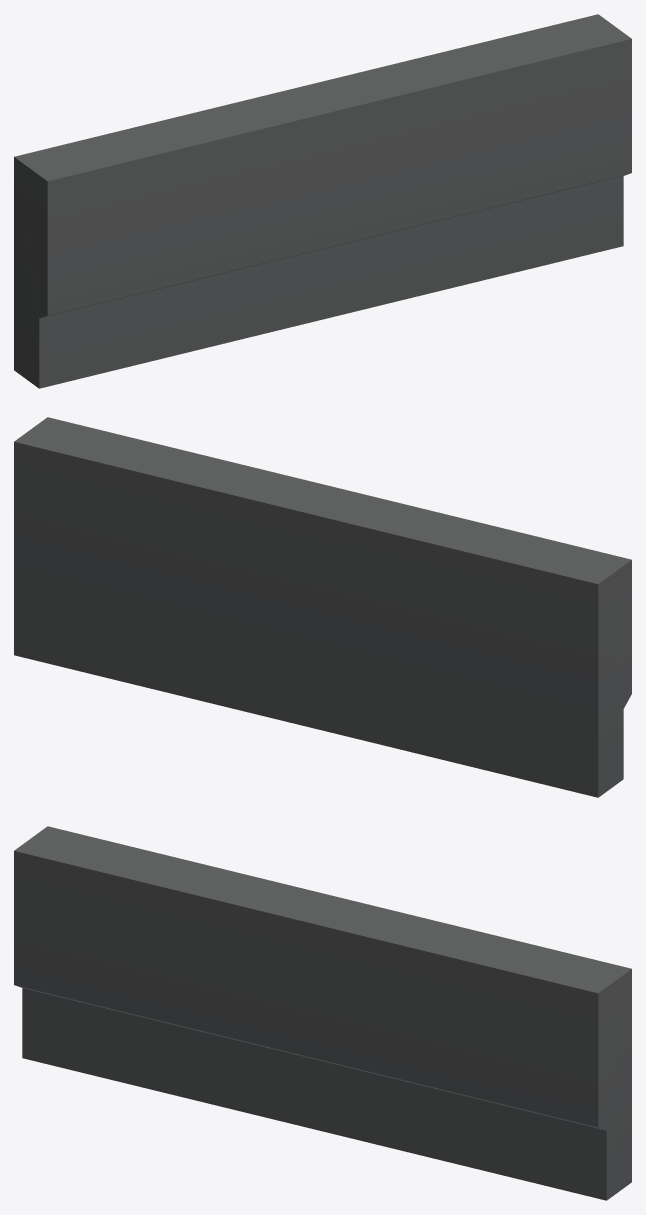
Rendered from Wall_type_B_015.fbx.
3 renders of one model, top to bottom at view 1: azimuth 30°, elevation 25°; view 2: azimuth 150°, elevation 25°; view 3: azimuth 330°, elevation 25°, orthographic.
Parts seen in each view (by area): view 1: Wall_type_B_015; view 2: Wall_type_B_015; view 3: Wall_type_B_015.
Part boxes in pixels (x1=…): Wall_type_B_015: x1=14, y1=14, x2=631, y2=388; Wall_type_B_015: x1=14, y1=417, x2=631, y2=797; Wall_type_B_015: x1=14, y1=826, x2=631, y2=1200.
Bounding box in the file's own units: 200 × 20 × 70.
